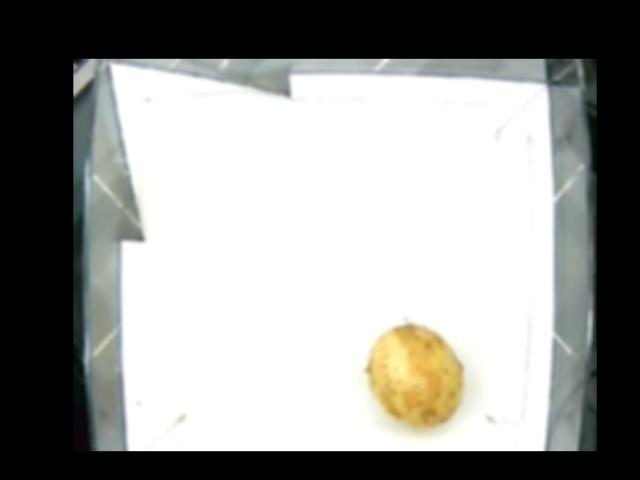Potato: (367, 322, 465, 426)
